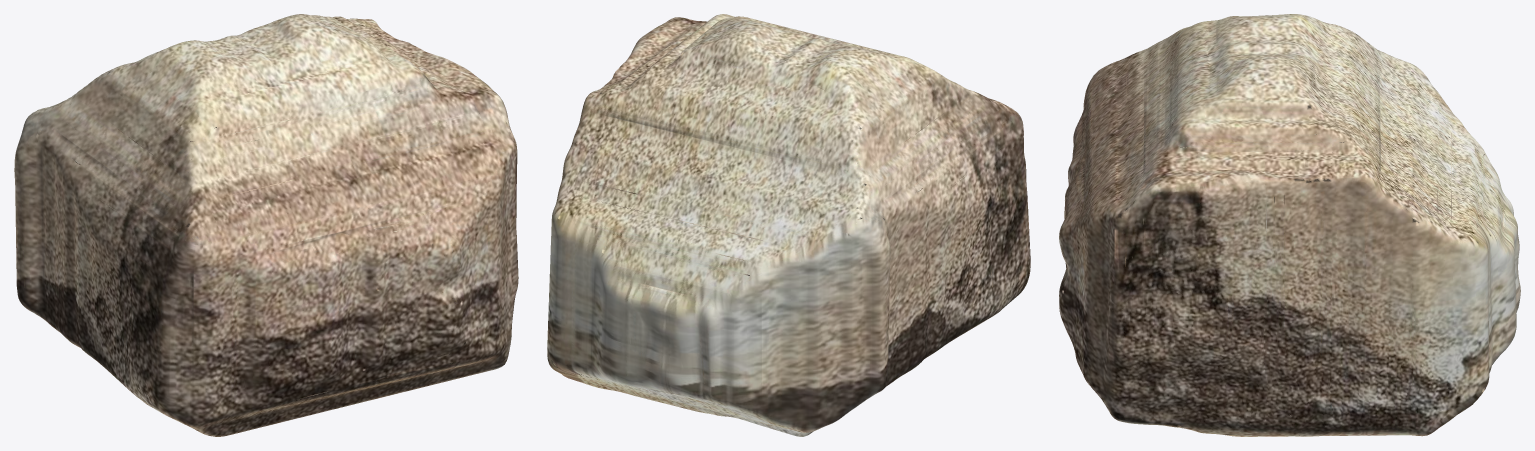
File: 08oclock.glb
The picture shows the model from 3 angles, left to right: view 1: azimuth 30°, elevation 25°; view 2: azimuth 150°, elevation 25°; view 3: azimuth 270°, elevation 25°; orthographic projection. The views are drawn at different scales.
Visible parts, largest first — view 1: Rock; view 2: Rock; view 3: Rock.
Part boxes in pixels (x1,y1,x2,y2): Rock: (14,14,518,436); Rock: (547,14,1030,436); Rock: (1059,14,1520,436).
Size of the model in its own units: 0.7388 by 0.6919 by 0.8339.
Materials: 1 (1 with a texture image).
